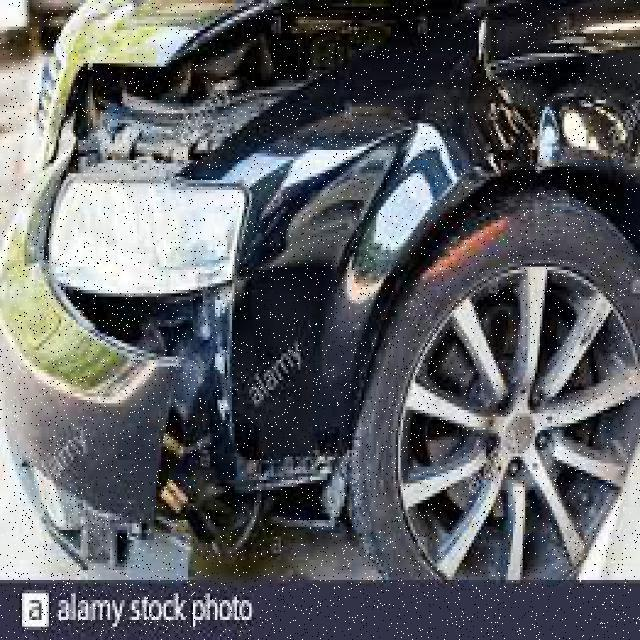Headlight-Damage: (38, 29, 262, 304)
front-bumper-dent: (0, 0, 264, 577)
